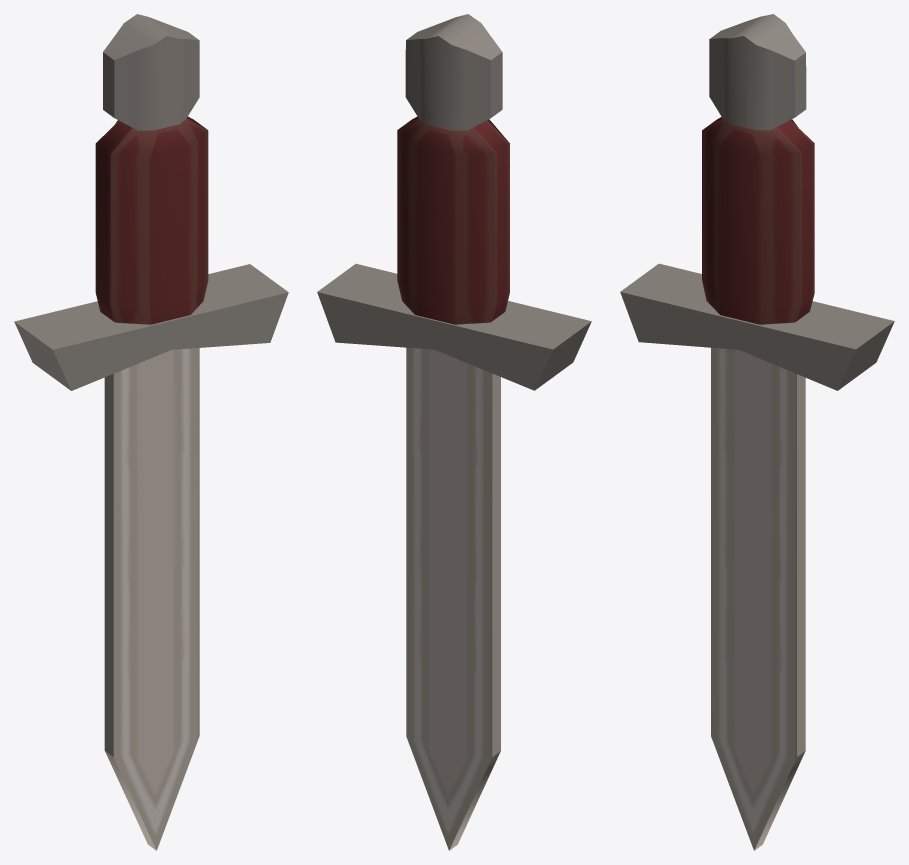
File: RitualDaggerVisual.fbx
The picture shows the model from 3 angles, left to right: view 1: azimuth 30°, elevation 25°; view 2: azimuth 150°, elevation 25°; view 3: azimuth 330°, elevation 25°; orthographic projection.
Visible parts, largest first — view 1: pCube5; view 2: pCube5; view 3: pCube5.
Boxes of the visible parts, x1=… form: pCube5: x1=14, y1=14, x2=288, y2=850; pCube5: x1=317, y1=14, x2=591, y2=850; pCube5: x1=620, y1=14, x2=894, y2=850.
Bounding box in the file's own units: 2.74 × 9.14 × 0.78.
